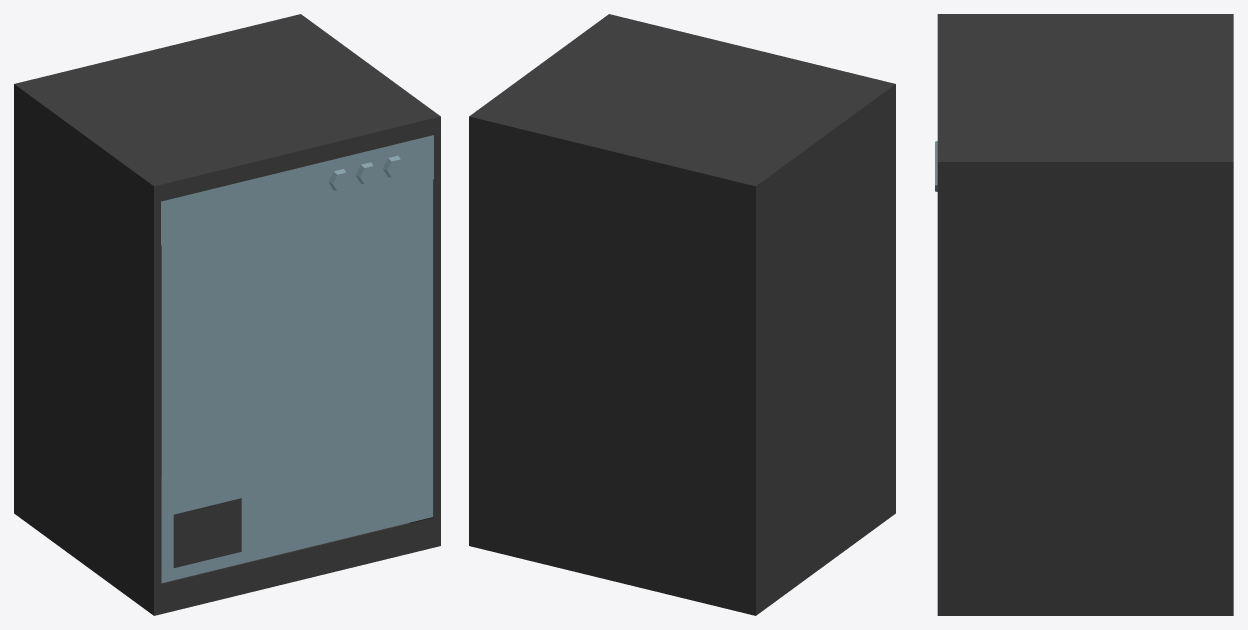
File: Washing mashine.fbx
3 renders of one model, left to right at view 1: azimuth 30°, elevation 25°; view 2: azimuth 150°, elevation 25°; view 3: azimuth 270°, elevation 25°, orthographic. The views are drawn at different scales.
Parts seen in each view (by area): view 1: washing_machine_001; view 2: washing_machine_001; view 3: washing_machine_001.
Part boxes in pixels (x1,y1,x2,y2): washing_machine_001: (14,14,440,615); washing_machine_001: (469,14,895,615); washing_machine_001: (935,14,1233,615).
Bounding box in the file's own units: 59.85 × 85.67 × 52.89.
1 material, 1 textured.
